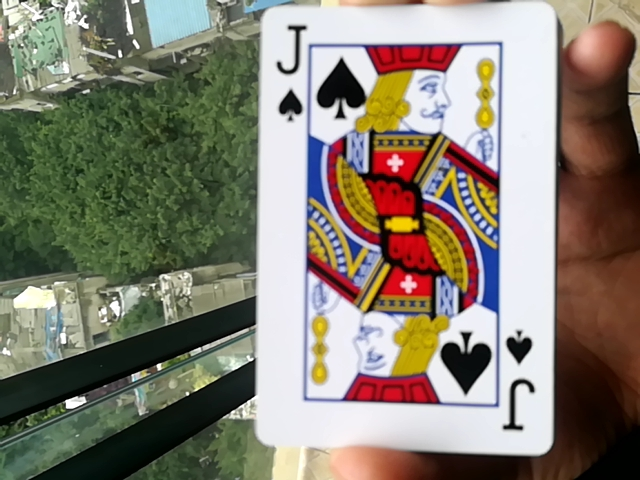ht j: (244, 15, 564, 456)
